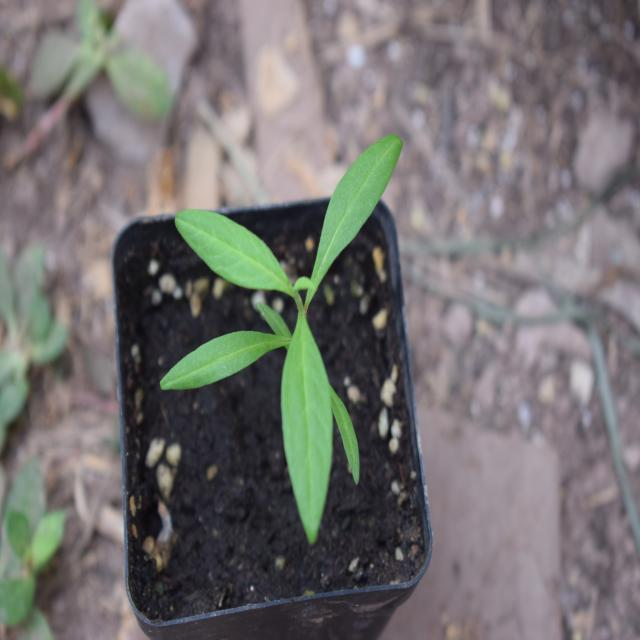white_smart_weed: (155, 137, 424, 502)
